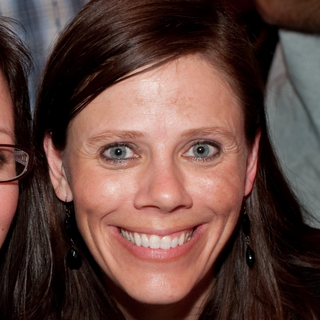eye: (96, 139, 143, 165), (178, 138, 223, 164)
